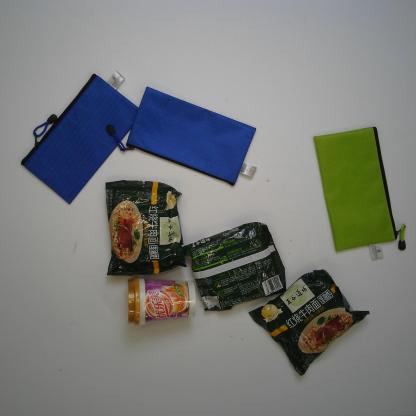Instant Drink: (126, 276, 197, 327)
Instant Noodles: (249, 269, 370, 377), (183, 221, 286, 312), (106, 178, 186, 275)
Stationery: (21, 70, 140, 206), (105, 86, 258, 186), (313, 126, 407, 260)
